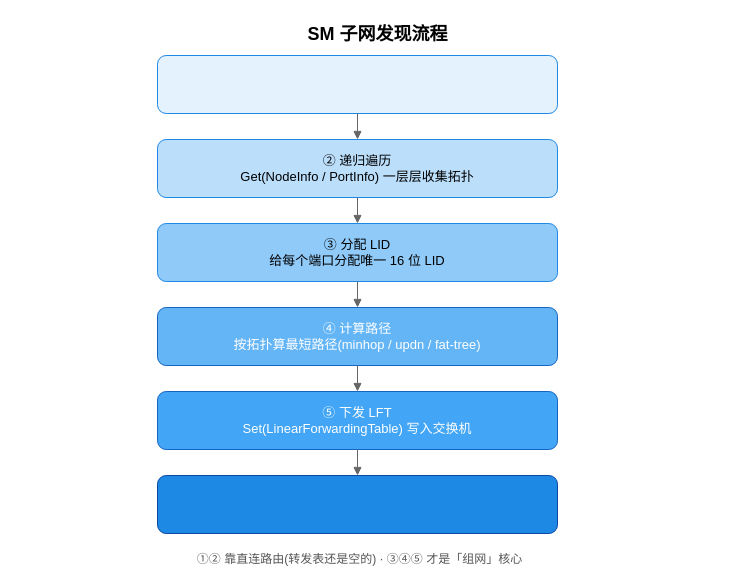
Some shapes in this 754 by 586 pixel diagram are drawn without their labels. The centre of each missing label's shape, as x and y in pixels:
① 直连探测 SM 用直连路由(VL15)探测第一个邻居: the point at 357,84
⑥ 监听变化 订阅 Trap,拓扑变化则重跑发现: the point at 357,504
